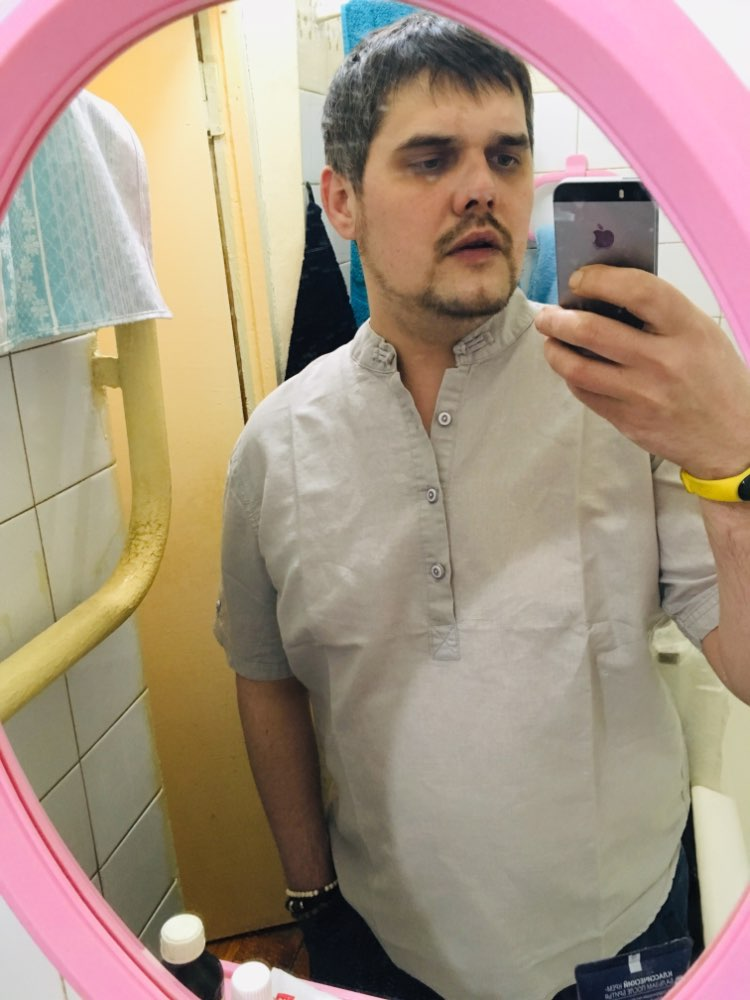shirts: (224, 299, 725, 986)
